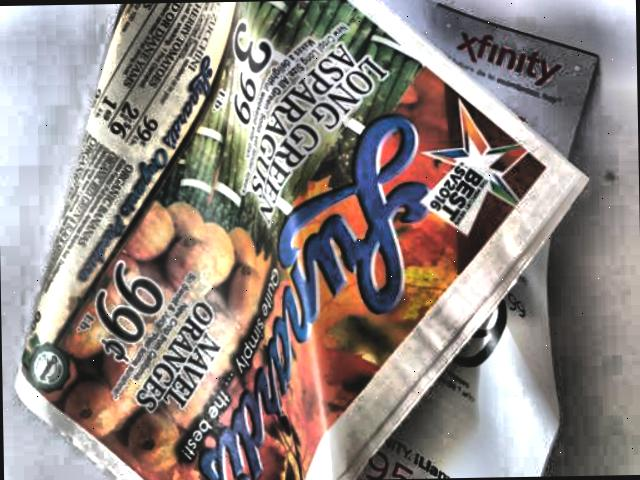Paper: (22, 0, 596, 480)
